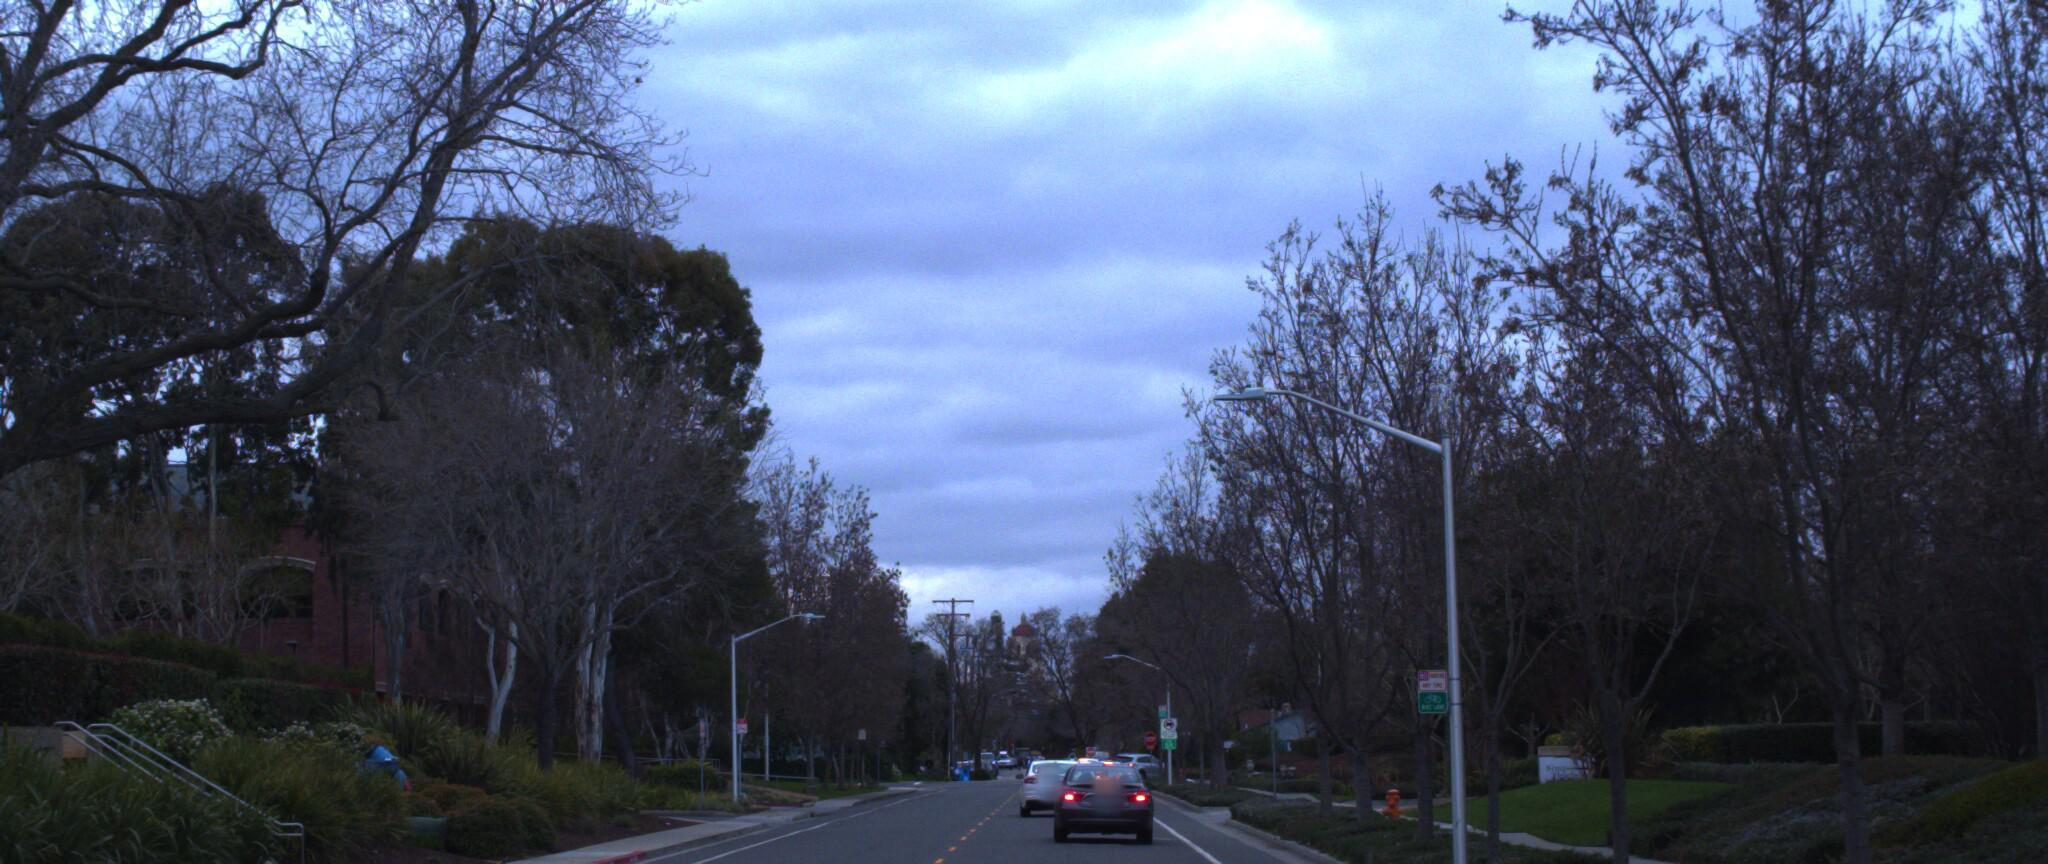car: (1049, 754, 1155, 831)
